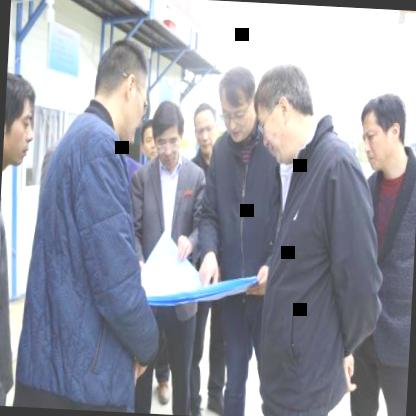head: (255, 54, 320, 161), (89, 38, 154, 143), (357, 84, 411, 174), (2, 65, 42, 177), (216, 60, 260, 141), (151, 100, 185, 169), (190, 101, 218, 156), (139, 118, 158, 166)
